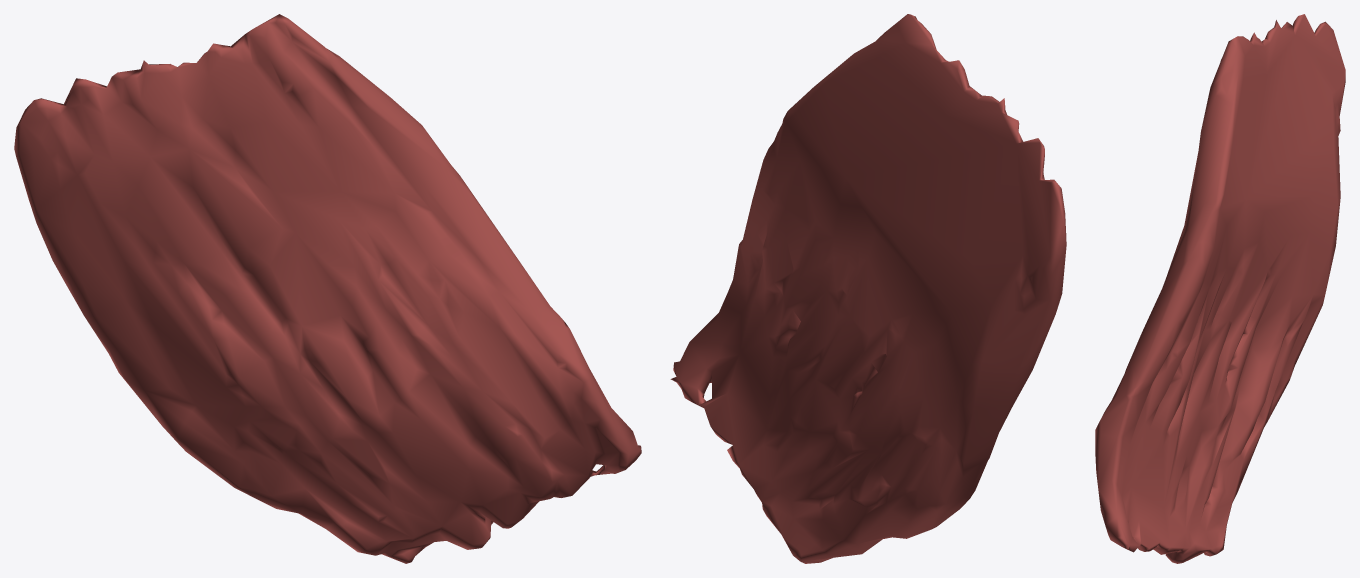
The model's file is FMA46826.glb.
The picture shows the model from 3 angles, left to right: view 1: azimuth 30°, elevation 25°; view 2: azimuth 150°, elevation 25°; view 3: azimuth 270°, elevation 25°; orthographic projection. The views are drawn at different scales.
Visible parts, largest first — view 1: FMA46826; view 2: FMA46826; view 3: FMA46826.
Part boxes in pixels (x1,y1,x2,y2): FMA46826: (14,14,641,563); FMA46826: (670,14,1066,563); FMA46826: (1095,14,1345,563).
Size of the model in its own units: 0.0133 by 0.0143 by 0.00685.
